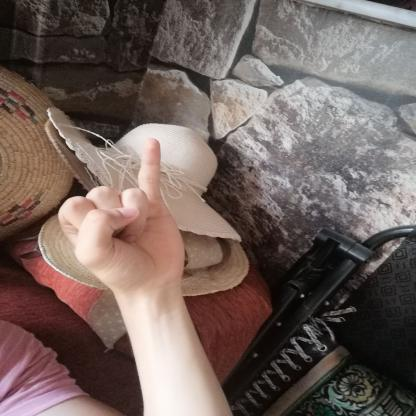MEEM: (43, 131, 204, 304)
